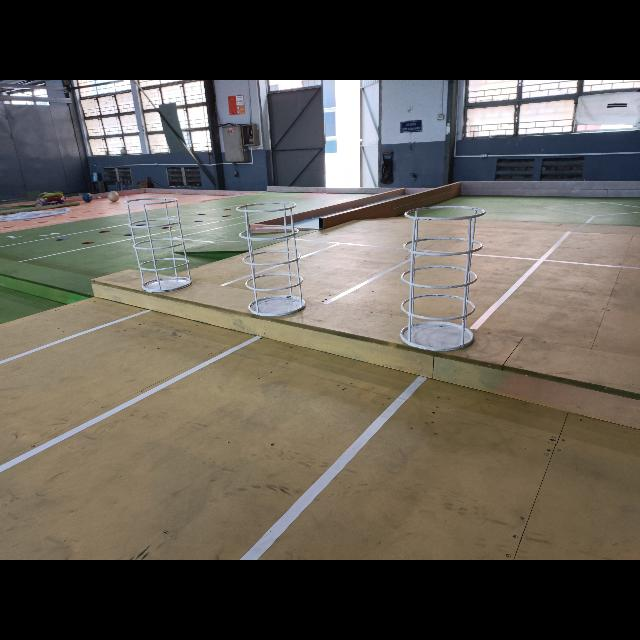S: (400, 205, 486, 352), (236, 202, 306, 319), (124, 197, 192, 293)
